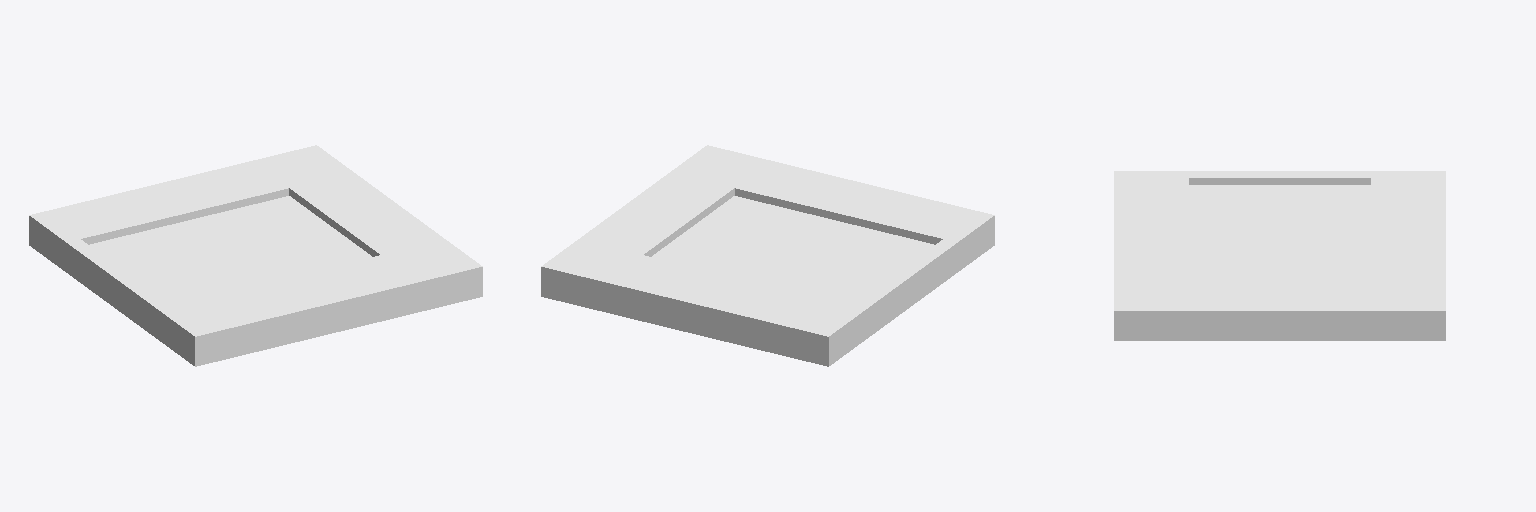
The model's file is DE3.vox.obj.
The picture shows the model from 3 angles: view 1: azimuth 30°, elevation 25°; view 2: azimuth 150°, elevation 25°; view 3: azimuth 270°, elevation 25°; orthographic projection.
Visible parts, largest first — view 1: object 1; view 2: object 1; view 3: object 1.
Boxes of the visible parts, x1,y1,x2,y2 form: object 1: [29, 145, 482, 366]; object 1: [541, 145, 994, 366]; object 1: [1114, 171, 1445, 340].
Size of the model in its own units: 4 by 0.4 by 4.